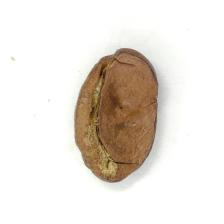NG: (74, 73, 133, 178)
